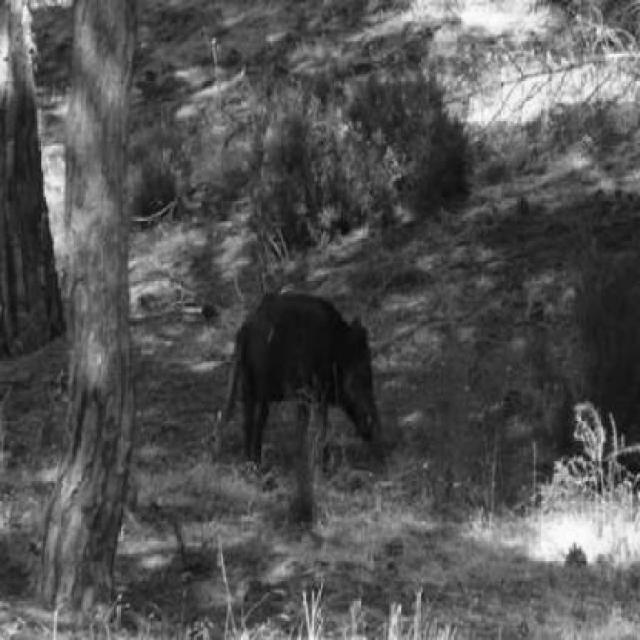Boar: (197, 262, 398, 508)
